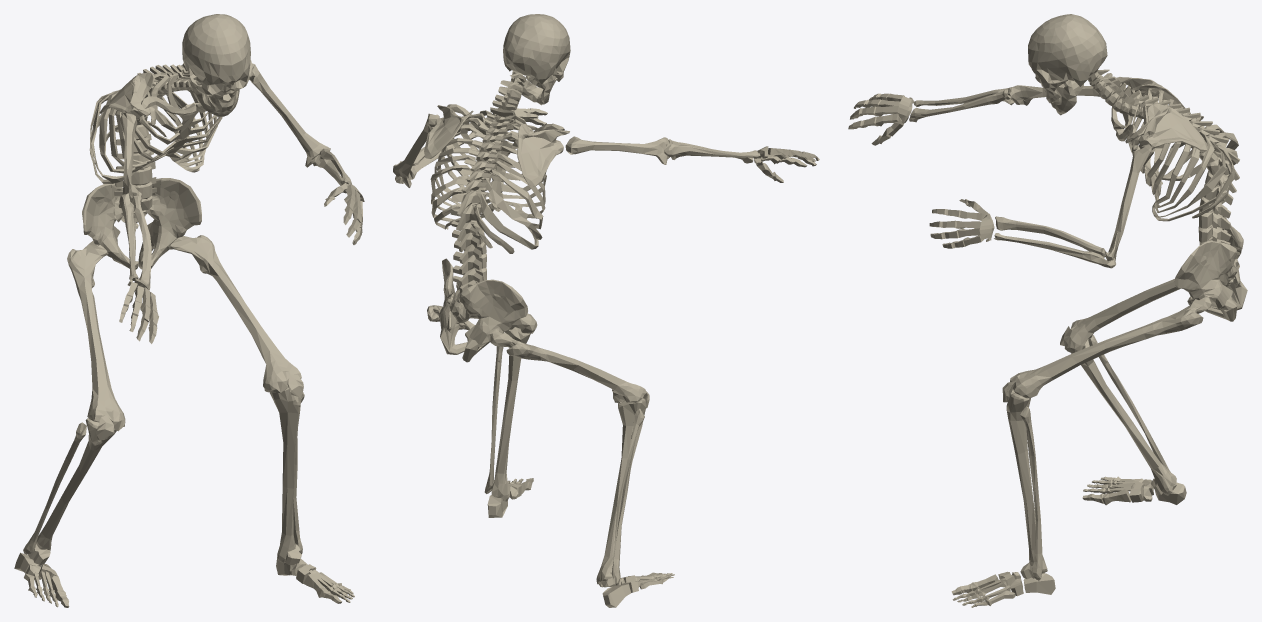
The model's file is skeleton.obj.
The picture shows the model from 3 angles, left to right: view 1: azimuth 30°, elevation 25°; view 2: azimuth 150°, elevation 25°; view 3: azimuth 270°, elevation 25°; orthographic projection. The views are drawn at different scales.
Parts seen in each view (by area): view 1: Body; view 2: Body; view 3: Body.
Part boxes in pixels (x1,y1,x2,y2): Body: (14,14,364,607); Body: (393,14,819,607); Body: (848,14,1247,607).
Bounding box in the file's own units: 0.3256 × 0.5272 × 0.3456.
